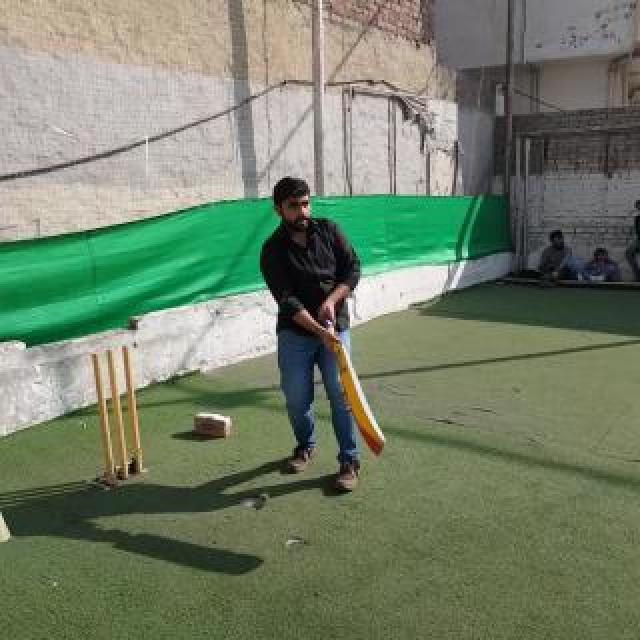bat: (324, 314, 384, 454)
